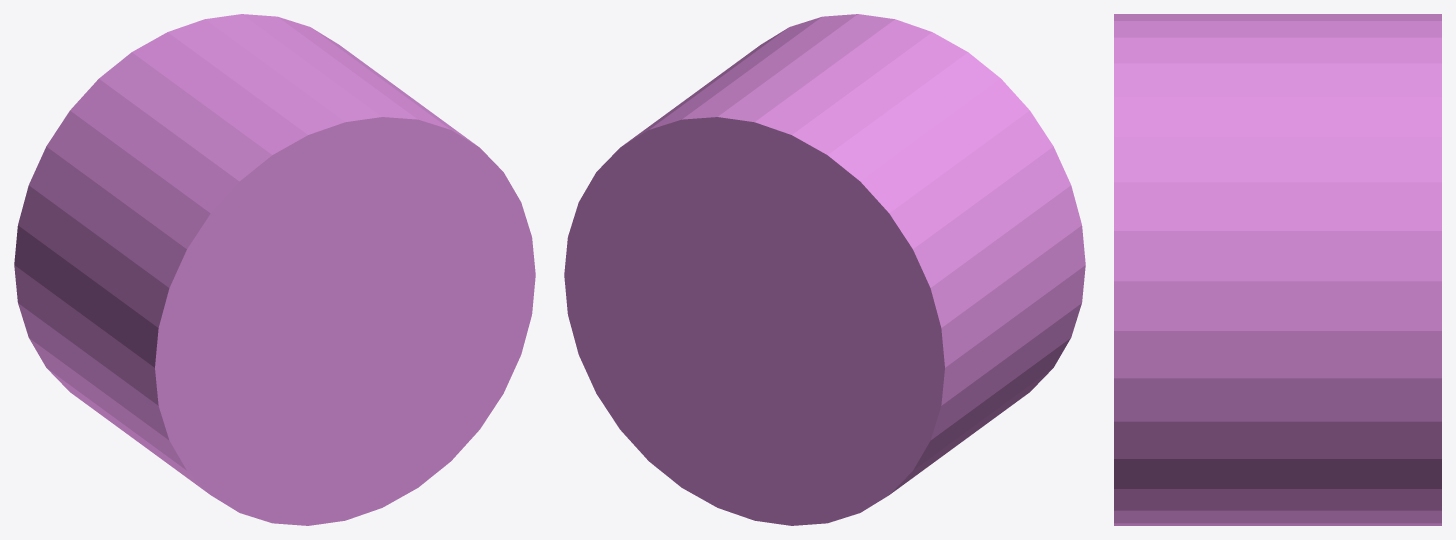
Rendered from robot-body.glb.
3 renders of one model, left to right at view 1: azimuth 30°, elevation 25°; view 2: azimuth 150°, elevation 25°; view 3: azimuth 270°, elevation 25°, orthographic. The views are drawn at different scales.
Visible parts, largest first — view 1: Body; view 2: Body; view 3: Body.
Boxes of the visible parts, x1,y1,x2,y2 form: Body: [14, 14, 535, 525]; Body: [564, 14, 1085, 525]; Body: [1114, 14, 1441, 525].
Bounding box in the file's own units: 1.4 × 1.4 × 0.896.
